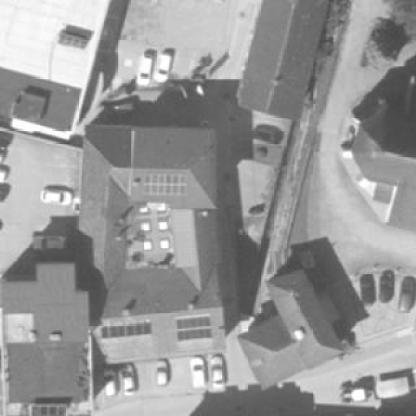solar-pv-panel: (143, 175, 186, 196), (176, 316, 212, 341), (101, 323, 151, 338), (57, 33, 87, 50), (31, 406, 65, 416)
